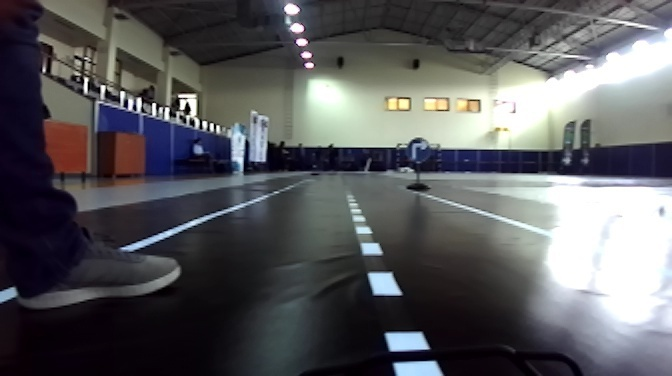saga_donus: (405, 138, 433, 167)
